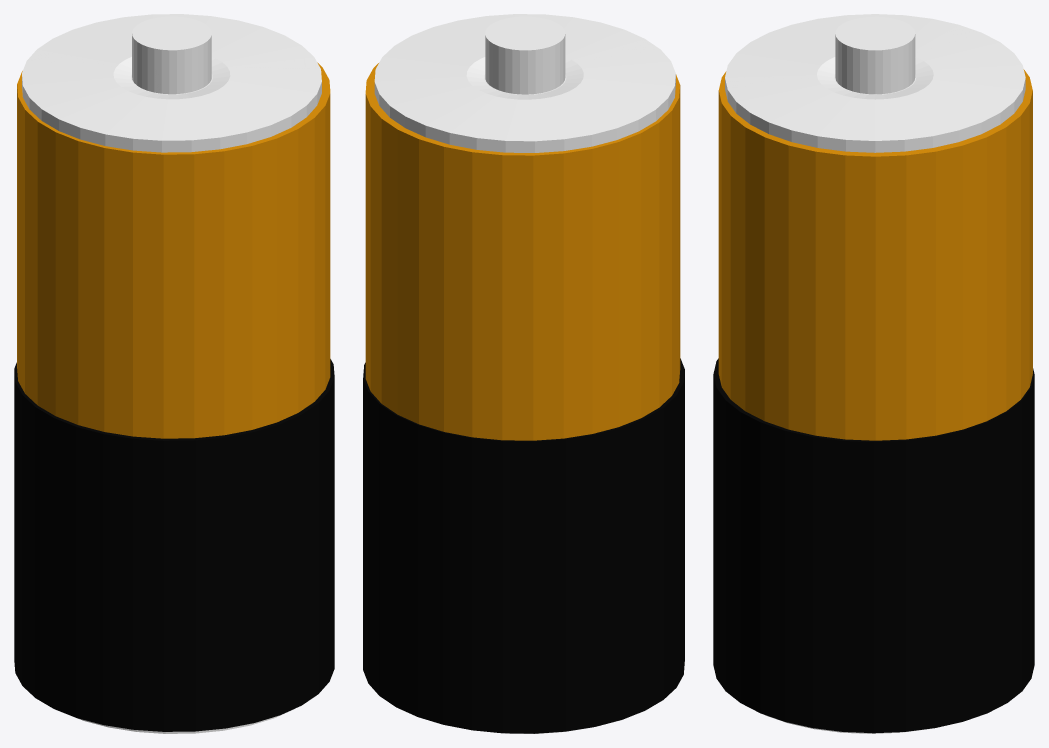
Rendered from battery.fbx.
3 renders of one model, left to right at view 1: azimuth 30°, elevation 25°; view 2: azimuth 150°, elevation 25°; view 3: azimuth 270°, elevation 25°, orthographic.
Visible parts, largest first — view 1: Cylinder, Cylinder.001, Cylinder.002; view 2: Cylinder, Cylinder.001, Cylinder.002; view 3: Cylinder, Cylinder.001, Cylinder.002.
Part boxes in pixels (x1,y1,x2,y2): Cylinder: [14, 359, 334, 731]; Cylinder.001: [17, 62, 330, 438]; Cylinder.002: [22, 14, 321, 152]; Cylinder: [363, 358, 684, 733]; Cylinder.001: [365, 63, 680, 440]; Cylinder.002: [374, 14, 675, 152]; Cylinder: [713, 358, 1034, 733]; Cylinder.001: [718, 69, 1032, 440]; Cylinder.002: [725, 14, 1025, 152].
Bounding box in the file's own units: 200 × 437 × 200.
